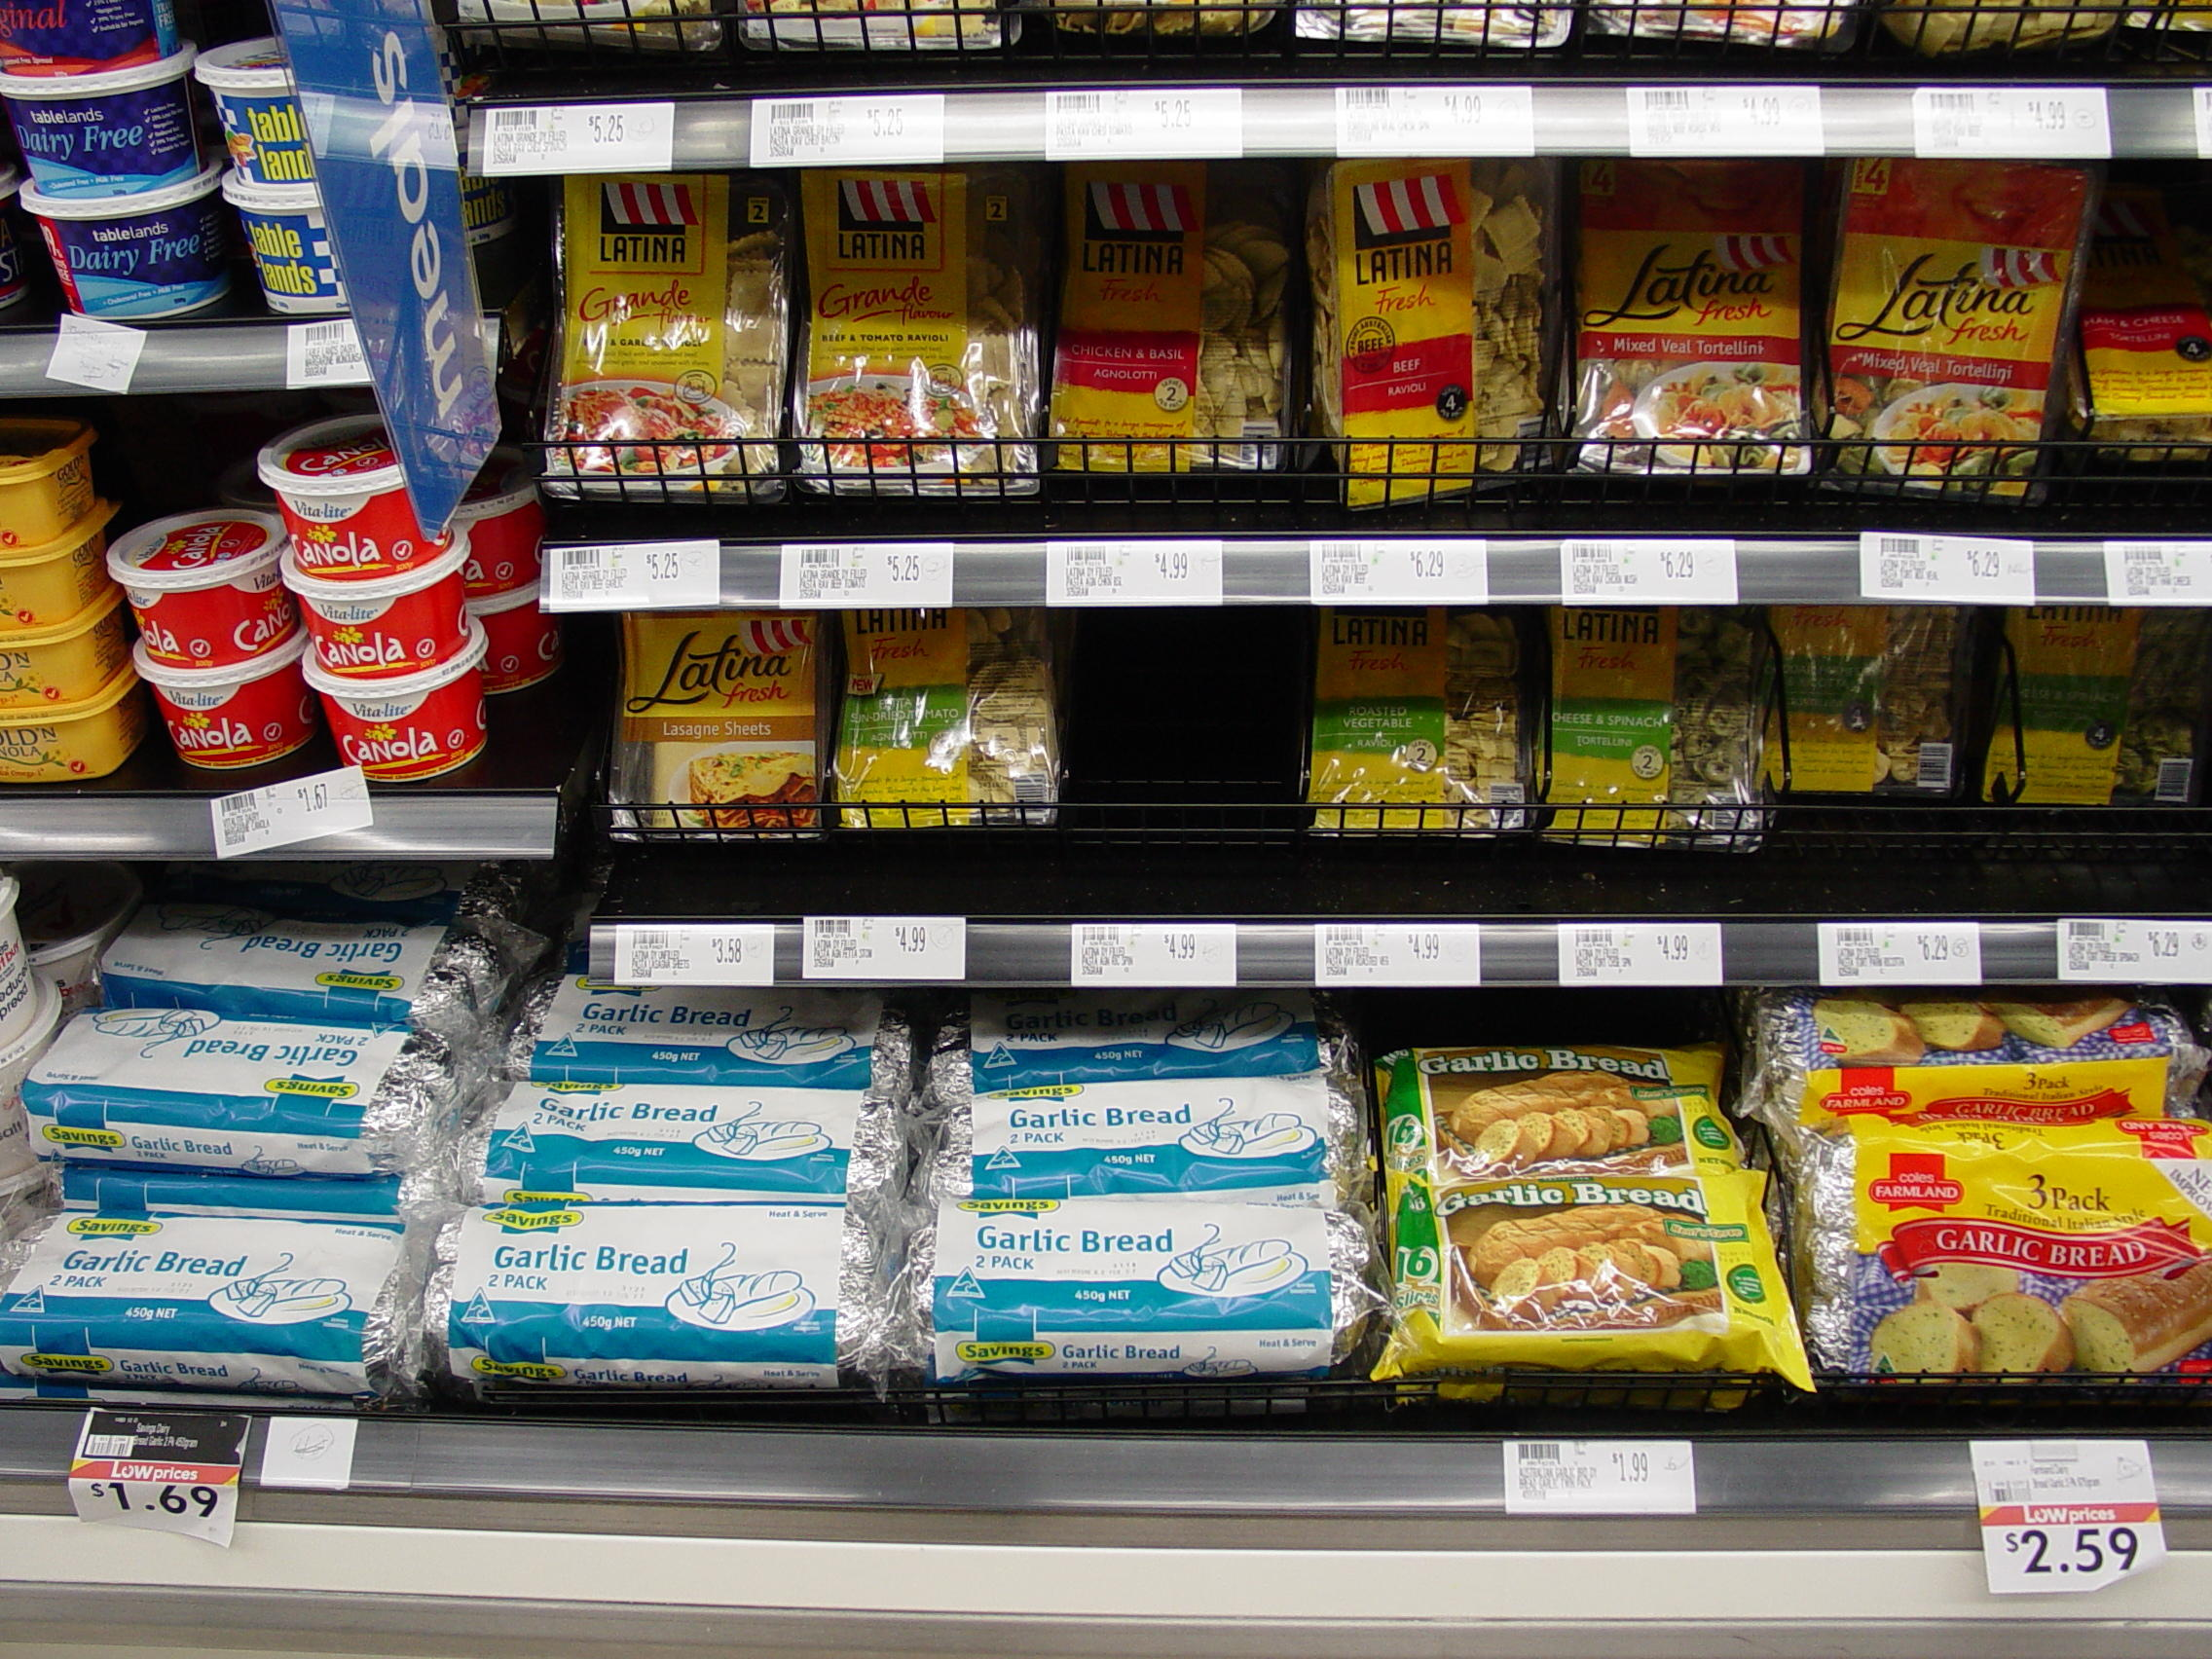Misplacement: (1038, 169, 1310, 507), (94, 411, 300, 789)
Out-of-stock: (1061, 610, 1299, 911)
